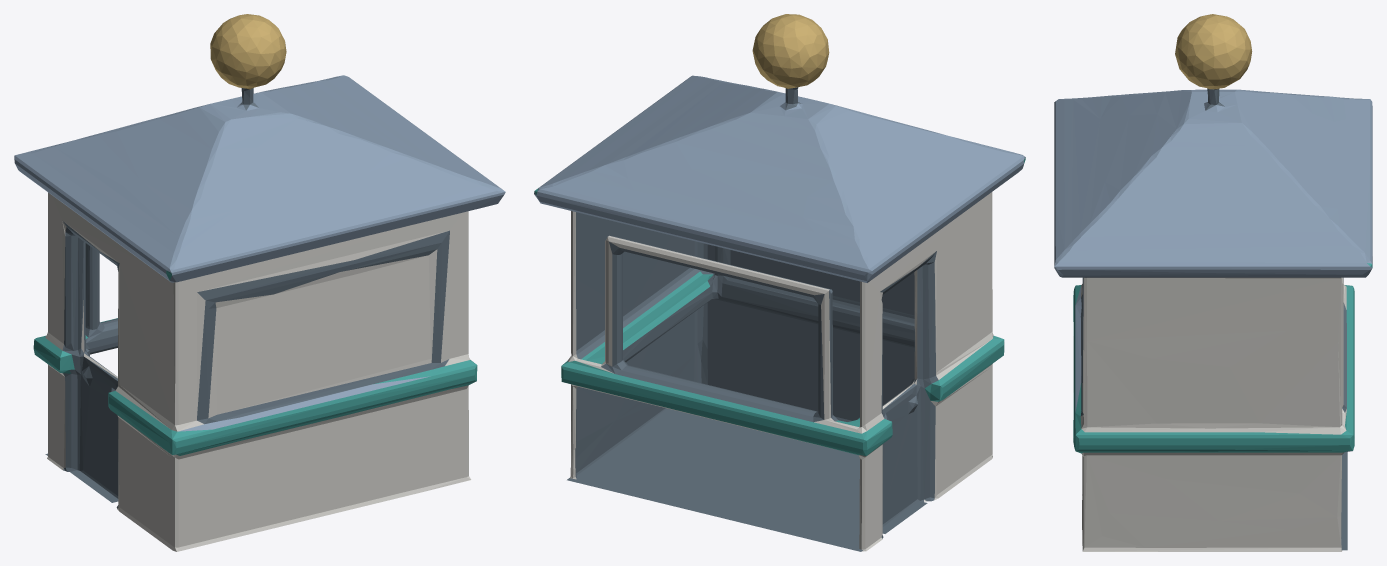
3 views of the same model, side by side, from view 1: azimuth 30°, elevation 25°; view 2: azimuth 150°, elevation 25°; view 3: azimuth 270°, elevation 25° (orthographic).
Parts seen in each view (by area): view 1: geometry_0; view 2: geometry_0; view 3: geometry_0.
Part boxes in pixels (x1,y1,x2,y2): geometry_0: (14,14,505,551); geometry_0: (534,14,1025,551); geometry_0: (1054,14,1372,551).
Bounding box in the file's own units: 0.7384 × 0.9502 × 0.6011.
